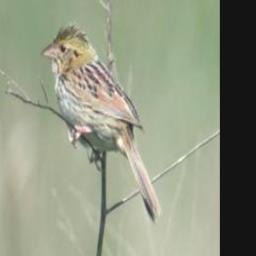Sparrow: (38, 20, 166, 227)
